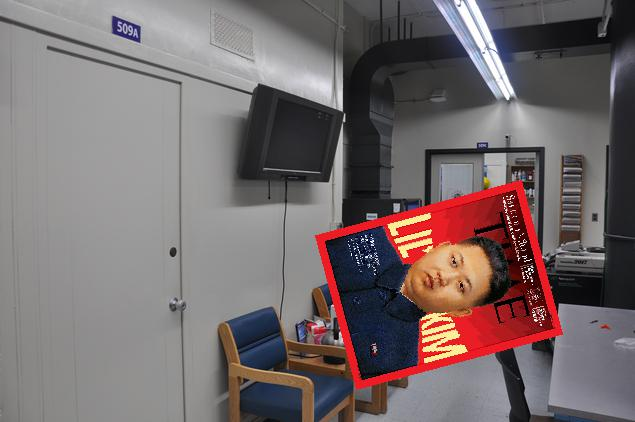times: (307, 180, 561, 394)
